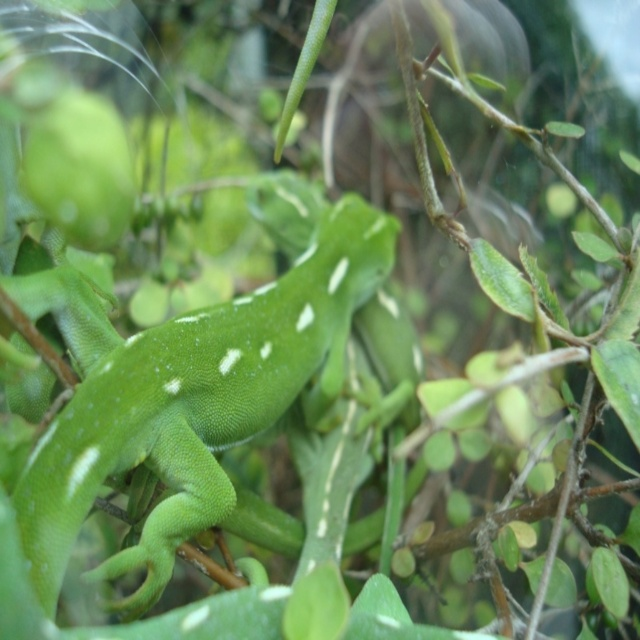Lizard: (46, 166, 458, 612)
